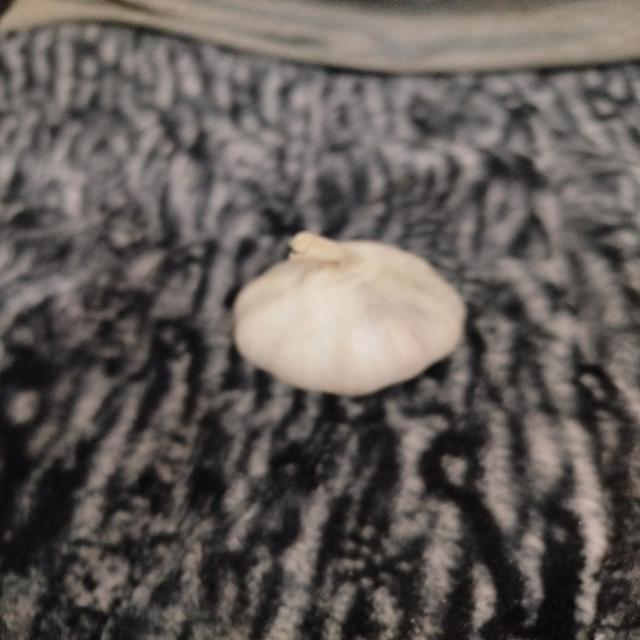garlic: (231, 230, 467, 398)
